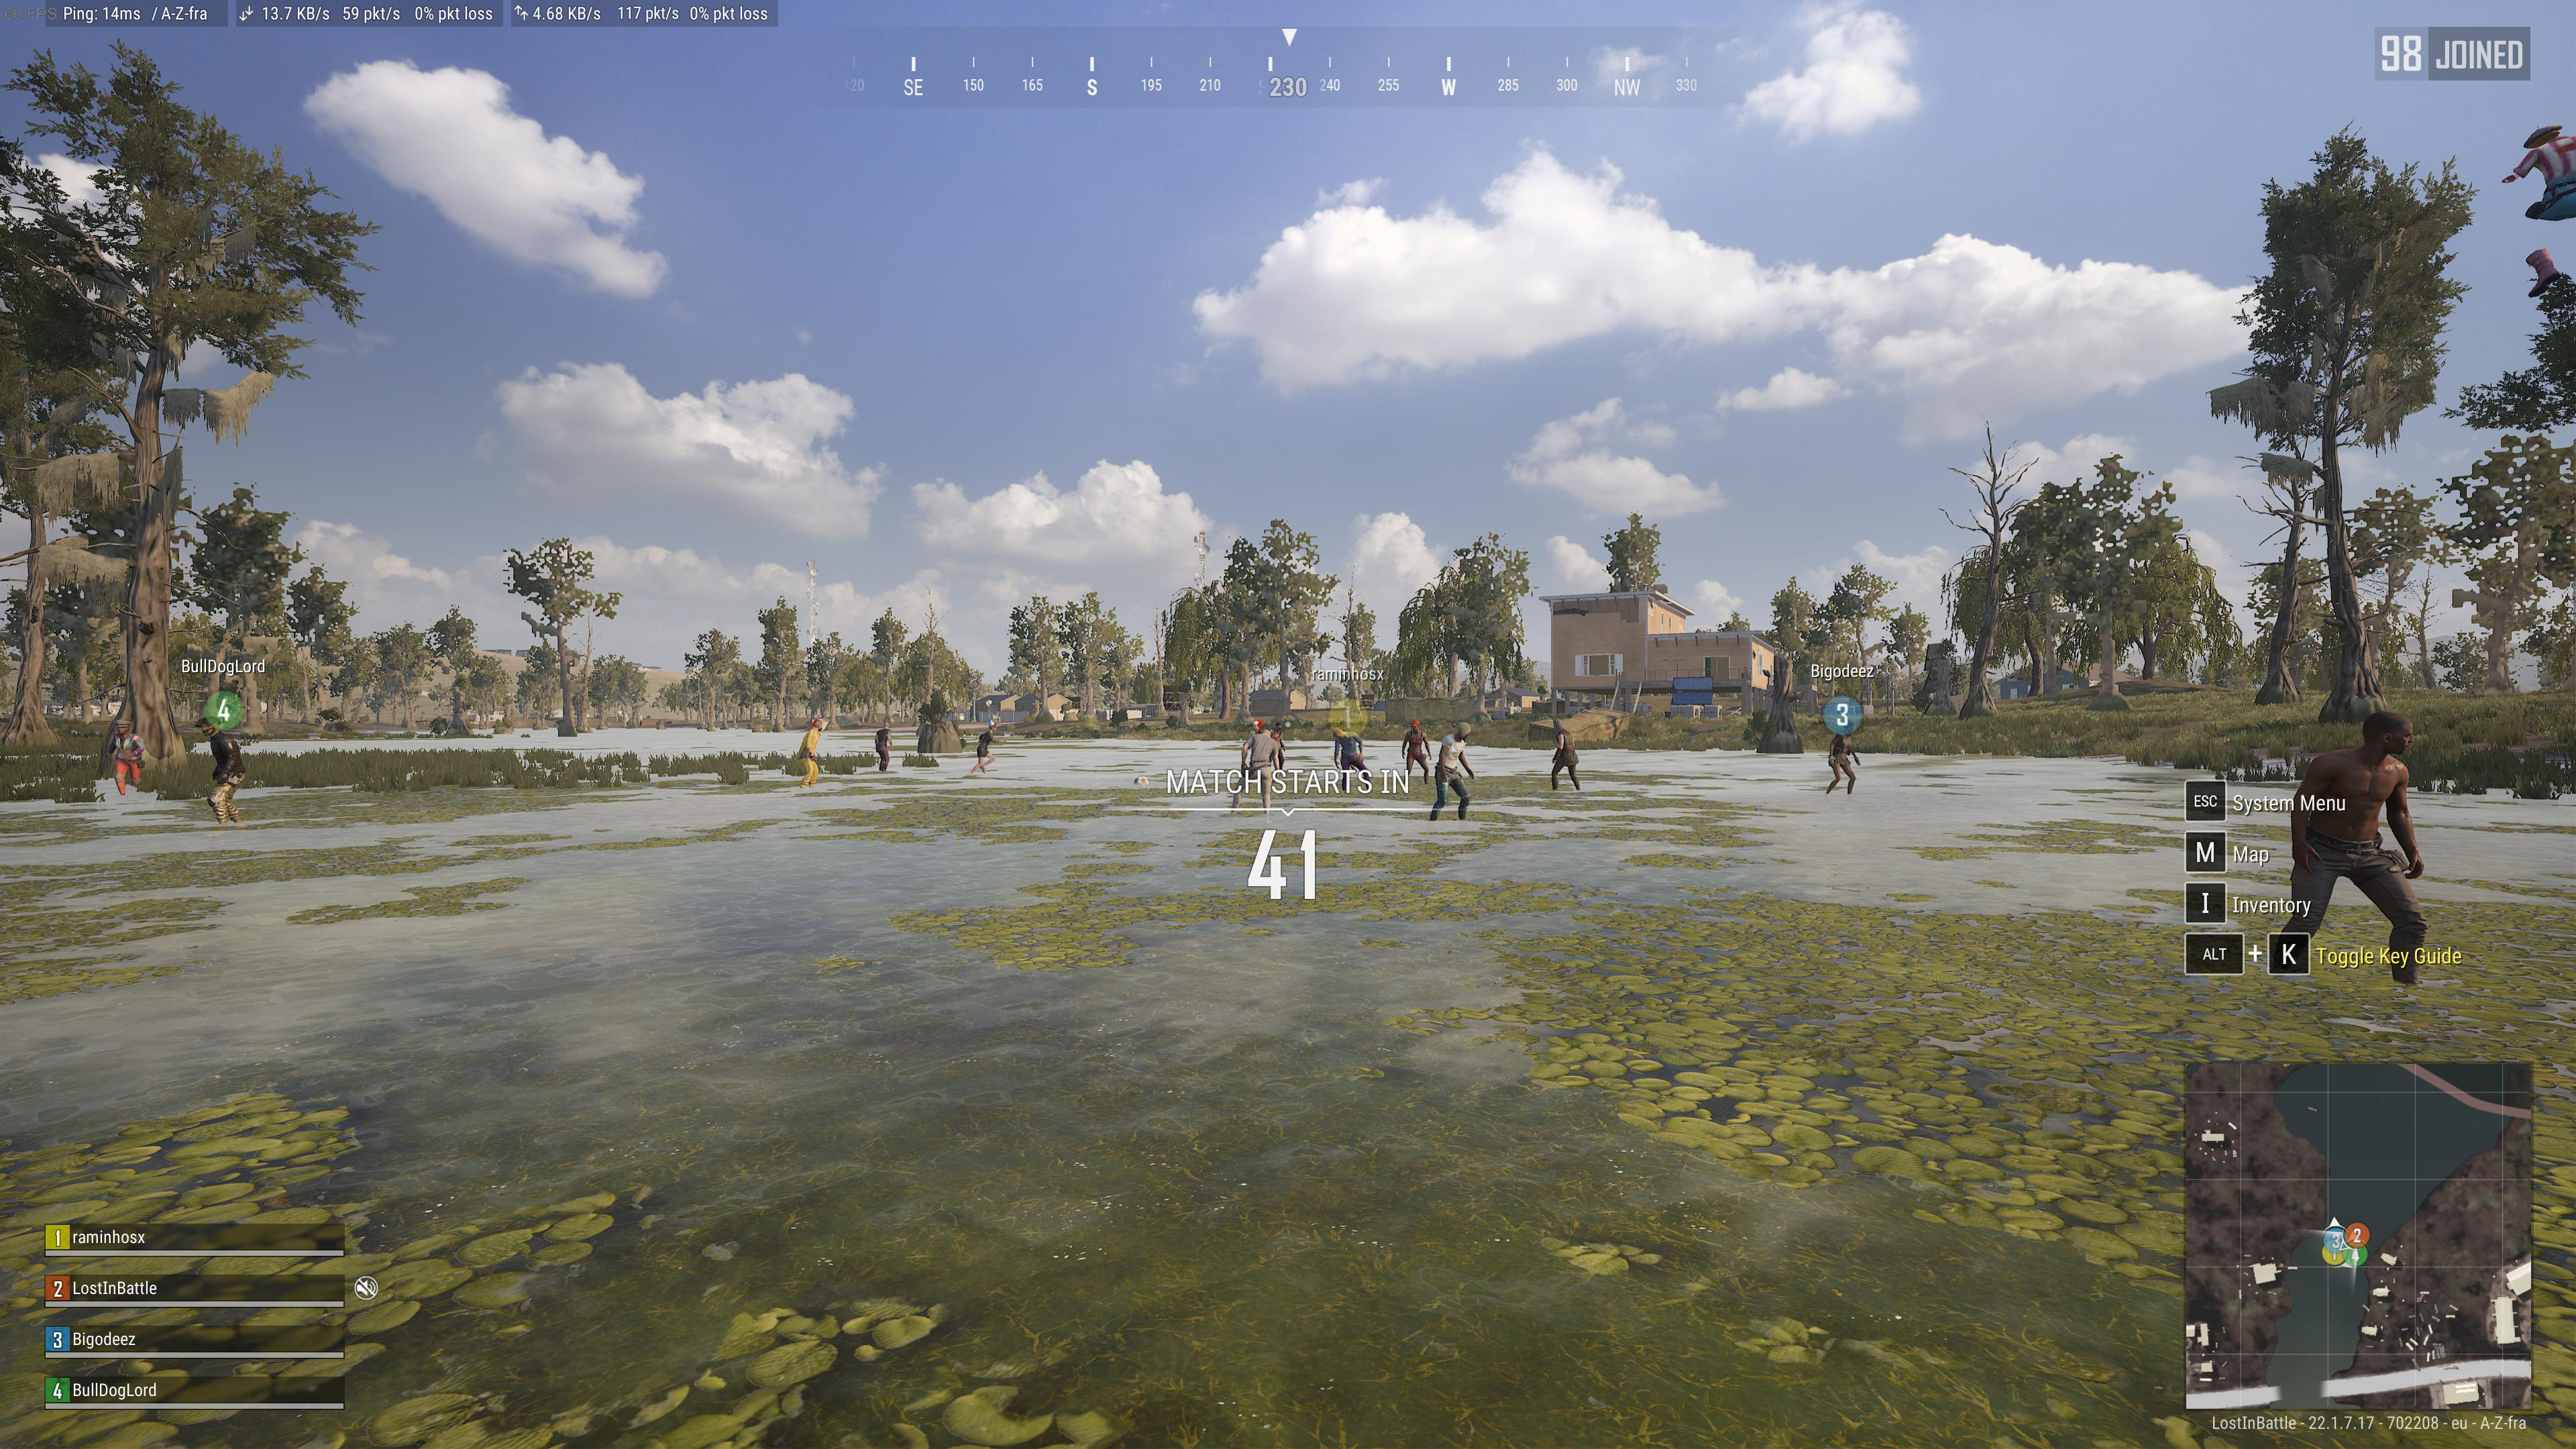enemy: (2281, 708, 2431, 985), (1230, 729, 1279, 823), (1430, 720, 1476, 821), (97, 715, 145, 800), (968, 717, 1005, 775), (1550, 718, 1580, 789), (1401, 718, 1431, 784), (796, 718, 823, 787), (874, 722, 893, 771)
enemy_head: (2360, 709, 2415, 761), (113, 717, 131, 738), (1456, 722, 1470, 740), (810, 718, 823, 731), (1552, 718, 1562, 731), (987, 717, 996, 731), (883, 722, 888, 729)
friendly: (195, 706, 248, 828), (1329, 717, 1373, 794), (1826, 715, 1859, 794)
